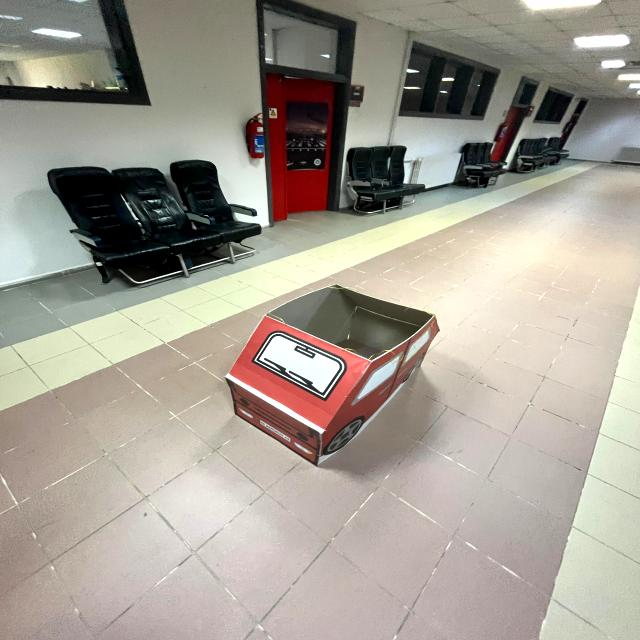red_car: (192, 268, 501, 493)
